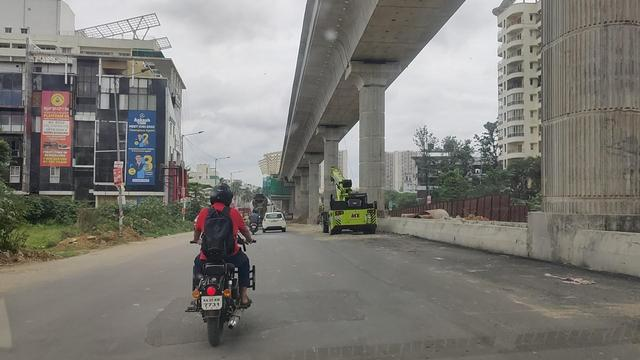HMV: (321, 168, 378, 232)
LMV: (191, 185, 252, 346), (263, 211, 287, 232)
RoadDamages: (255, 285, 366, 331), (143, 295, 185, 354), (421, 255, 503, 285), (459, 327, 513, 360)
